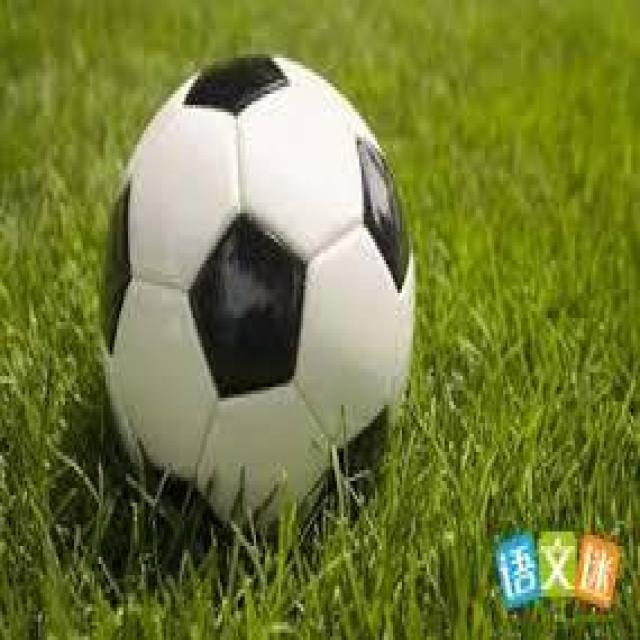Soccer Ball: (101, 54, 415, 521)
